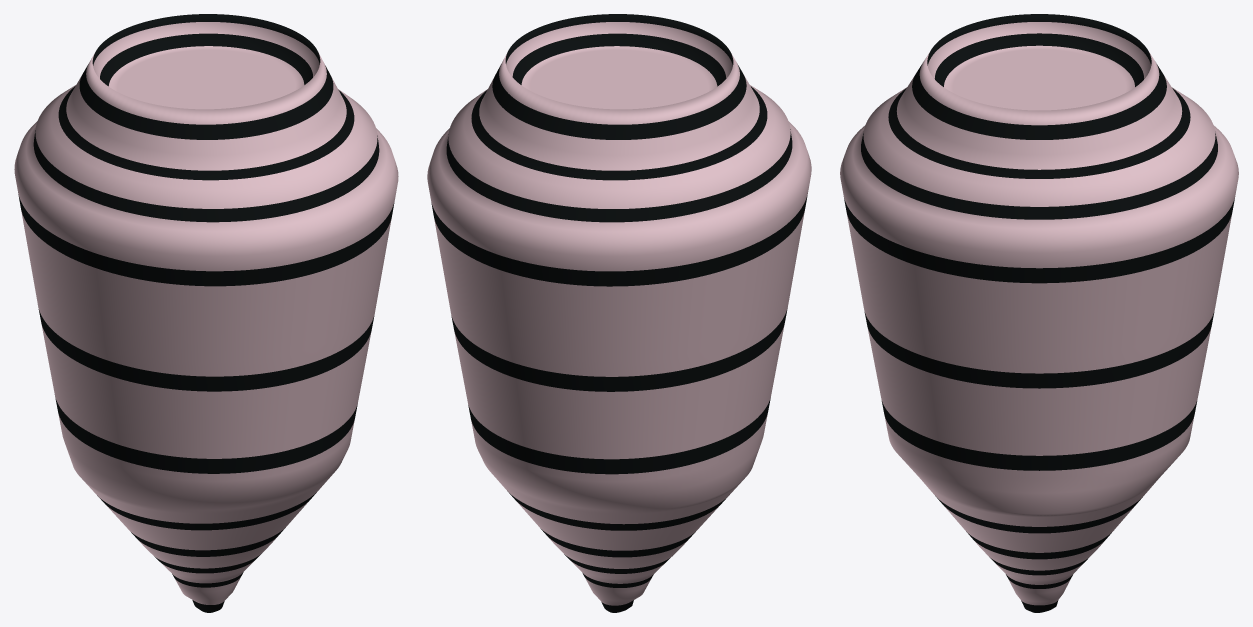
Rendered from body.gltf.
3 renders of one model, left to right at view 1: azimuth 30°, elevation 25°; view 2: azimuth 150°, elevation 25°; view 3: azimuth 270°, elevation 25°, orthographic.
Parts seen in each view (by area): view 1: Cylinder; view 2: Cylinder; view 3: Cylinder.
Part boxes in pixels (x1,y1,x2,y2): Cylinder: [14, 14, 398, 612]; Cylinder: [427, 14, 811, 612]; Cylinder: [840, 14, 1238, 612].
Size of the model in its own units: 1.27 by 2.03 by 1.34.
